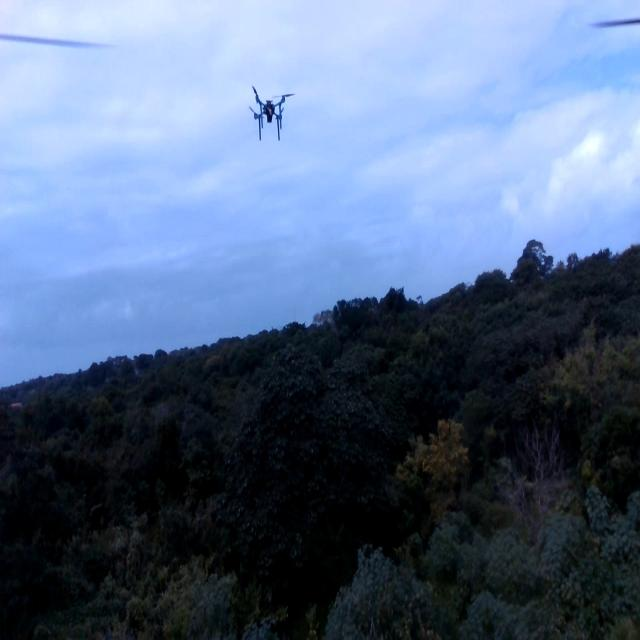-uav-: (246, 71, 292, 147)
